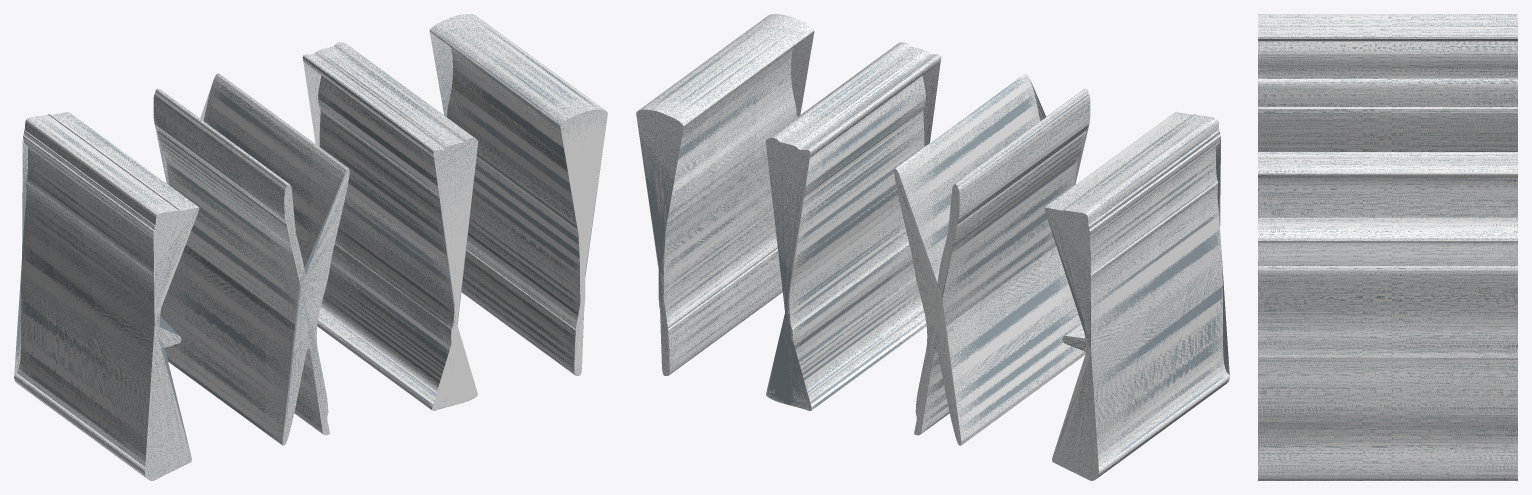
Rendered from EXIT.fbx.
3 renders of one model, left to right at view 1: azimuth 30°, elevation 25°; view 2: azimuth 150°, elevation 25°; view 3: azimuth 270°, elevation 25°, orthographic.
Visible parts, largest first — view 1: Group1; view 2: Group1; view 3: Group1.
Part boxes in pixels (x1,y1,x2,y2): Group1: (14, 14, 607, 480); Group1: (636, 14, 1229, 480); Group1: (1258, 14, 1517, 480).
Size of the model in its own units: 4089 by 2244 by 2000.
